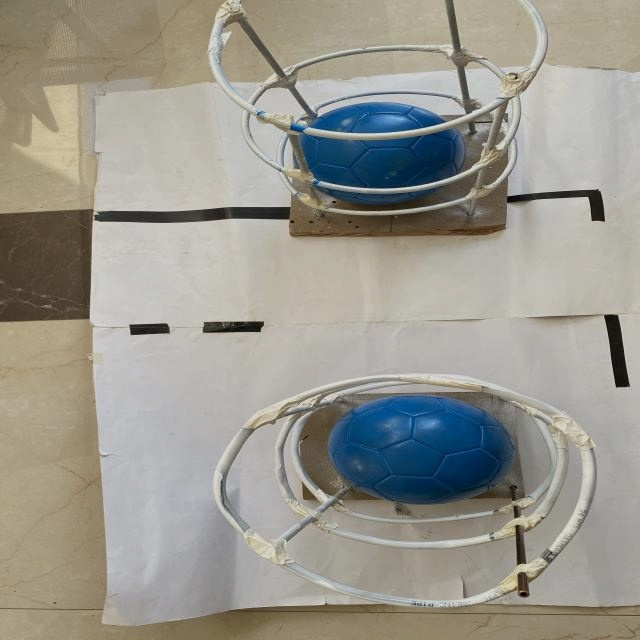blue_ball: (328, 394, 518, 504), (291, 101, 462, 204)
silo: (213, 372, 597, 614), (203, 1, 551, 228)
